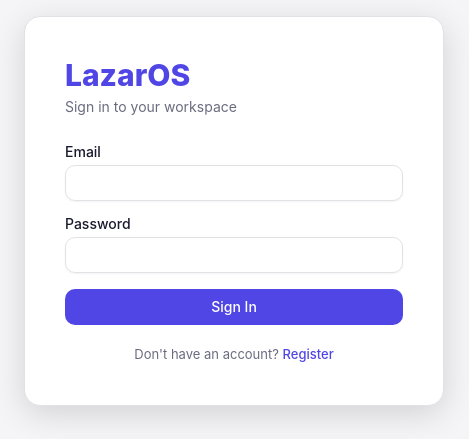
LoginPage › disables the submit button and changes its copy while submitting
The width and height of the screenshot is (469, 439).
Type "a@b.com" into the field labelled "Email" at point(234, 183), box [65,165,403,201]
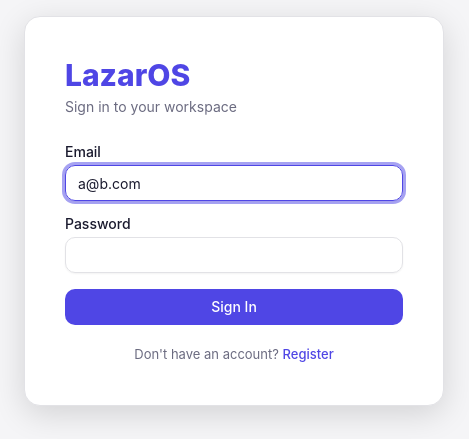
Type "whatever" into the password field labelled "Password" at point(234, 255), box [65,237,403,273]
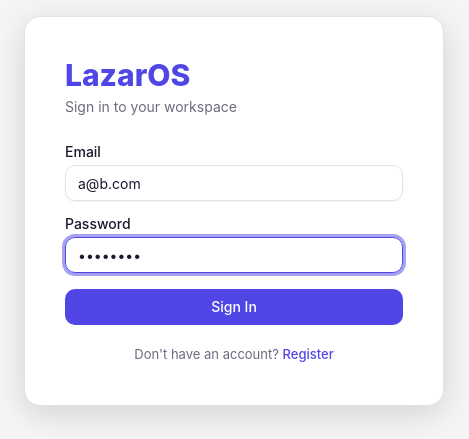
Click the button "Sign In" at point(234, 307), box [65,289,403,325]
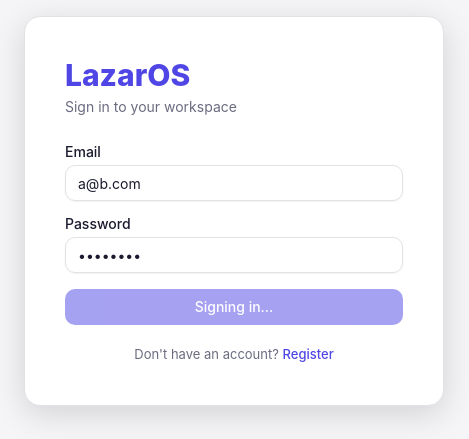
expect the button "Signing in..." is disabled: met, box [65,289,403,325]
